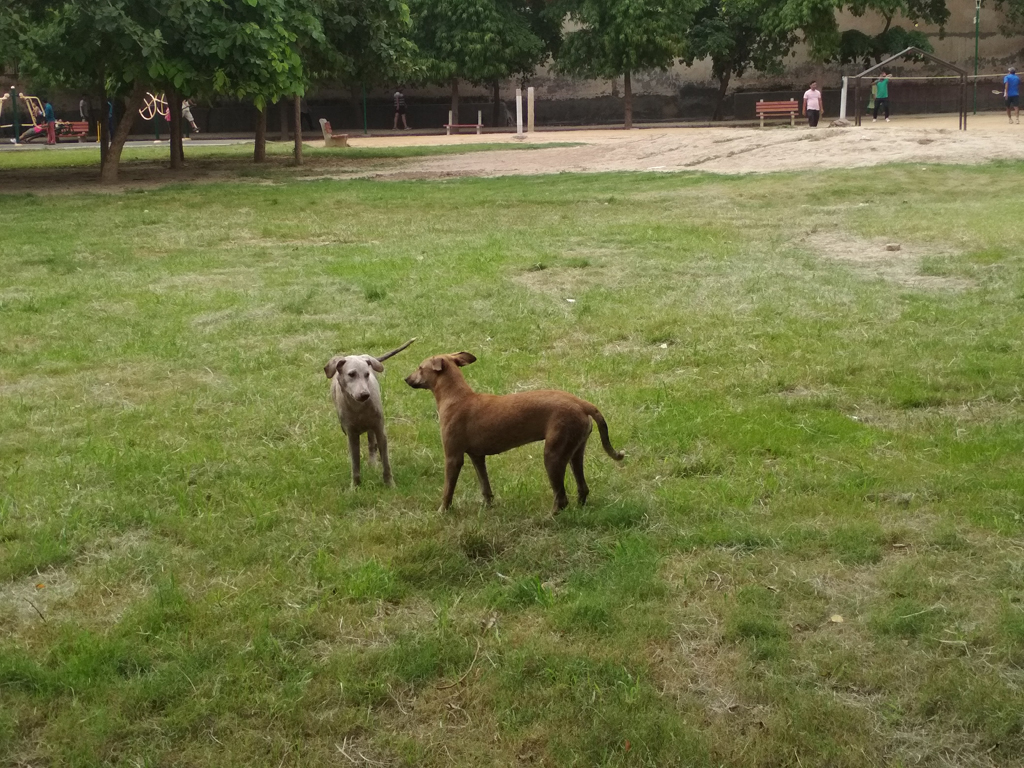dog: (405, 350, 625, 516), (324, 334, 419, 491)
